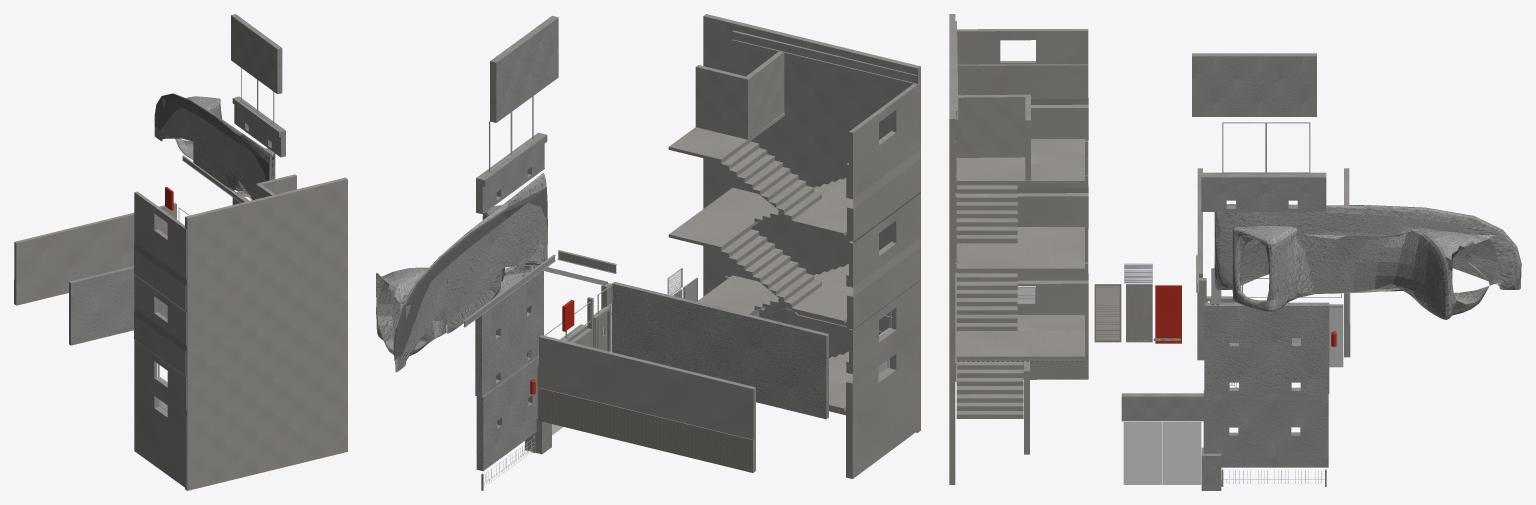
File: FACTO.fbx
3 views of the same model, side by side, from view 1: azimuth 30°, elevation 25°; view 2: azimuth 150°, elevation 25°; view 3: azimuth 270°, elevation 25° (orthographic). The views are drawn at different scales.
Parts seen in each view (by area): view 1: Escada_Parede_Lateral, Escada_Parede_Fundo, Parede_Interna_Corredor_Lateral, Parede_Esterna_Varanda_Segundo, Parede_Lateral, Parede_Externa_Superior, Parede_Esterna_Corredor_Terceiro, Escada_Parede_Terceiro, Viga _Horizontal_Geral; view 2: Escada_Parede_Fundo, Escada_Parede_Lateral, Escadaria, Parede_Interna_Corredor_Lateral, Parede_Lateral, Parede_Esterna_Varanda_Segundo, Escada_Parede_Terceiro, Parede_Esterna_Corredor_Geral, Parede_Esterna_Corredor_Terreo, Parede_Externa_Superior, Parede_Esterna_Corredor_Terceiro, Escada_Viga_Teto (+3 smaller); view 3: Parede_Esterna_Varanda_Segundo, Escadaria, Escada_Parede_Fundo, Parede_Esterna_Corredor_Geral, Parede_Esterna_Corredor_Terreo, Parede_Externa_Superior, Porta_VidroFolha, Parede_Esterna_Corredor_Terceiro, Escada_Parede_Terceiro, Escada_Parede_Lateral, Parede_Sup_Por_Vidro, Porta_Comum (+8 smaller).
Boxes of the visible parts, x1,y1,x2,y2 form: Escada_Parede_Lateral: (185, 177, 347, 490); Escada_Parede_Fundo: (134, 191, 186, 487); Parede_Interna_Corredor_Lateral: (14, 202, 176, 305); Parede_Esterna_Varanda_Segundo: (154, 93, 275, 200); Parede_Lateral: (69, 266, 167, 345); Parede_Externa_Superior: (231, 14, 282, 94); Parede_Esterna_Corredor_Terceiro: (232, 96, 285, 157); Escada_Parede_Terceiro: (256, 174, 296, 199); Viga _Horizontal_Geral: (182, 155, 246, 202); Escada_Parede_Fundo: (846, 82, 920, 478); Escada_Parede_Lateral: (703, 14, 920, 432); Escadaria: (668, 112, 889, 411); Parede_Interna_Corredor_Lateral: (538, 335, 755, 472); Parede_Lateral: (612, 281, 828, 419); Parede_Esterna_Varanda_Segundo: (376, 173, 547, 372); Escada_Parede_Terceiro: (695, 51, 784, 139); Parede_Esterna_Corredor_Geral: (475, 268, 543, 397); Parede_Esterna_Corredor_Terreo: (476, 356, 538, 470); Parede_Externa_Superior: (490, 15, 558, 122); Parede_Esterna_Corredor_Terceiro: (476, 132, 547, 214); Escada_Viga_Teto: (732, 30, 916, 84); Parede_Esterna_Varanda_Segundo: (1214, 204, 1521, 319); Escadaria: (956, 139, 1084, 418); Escada_Parede_Fundo: (955, 29, 1088, 379); Parede_Esterna_Corredor_Geral: (1204, 302, 1329, 393); Parede_Esterna_Corredor_Terreo: (1203, 390, 1328, 467); Parede_Externa_Superior: (1192, 53, 1316, 116); Porta_VidroFolha: (1123, 421, 1201, 484); Parede_Esterna_Corredor_Terceiro: (1201, 172, 1326, 211); Escada_Parede_Terceiro: (956, 94, 1030, 180); Escada_Parede_Lateral: (949, 14, 955, 484); Parede_Sup_Por_Vidro: (1121, 393, 1203, 421); Porta_Comum: (1094, 284, 1121, 342).
Size of the model in its own units: 1252 by 1618 by 1887.
